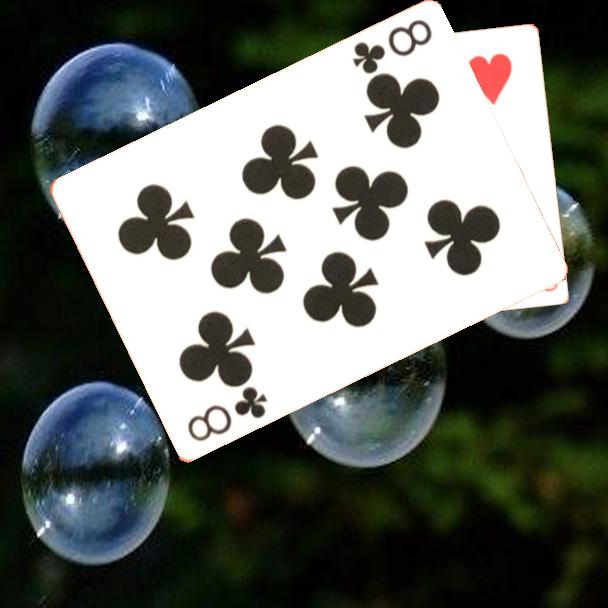c08: (183, 383, 271, 445), (349, 16, 435, 78)
